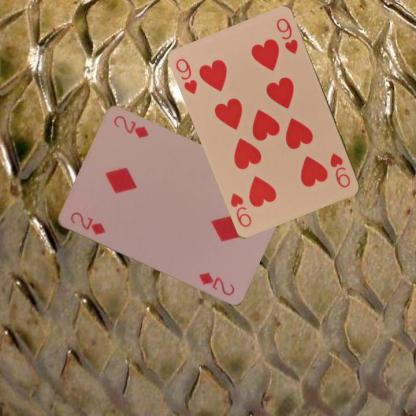2d: (67, 209, 107, 237)
9h: (173, 55, 199, 96), (327, 150, 352, 190)
